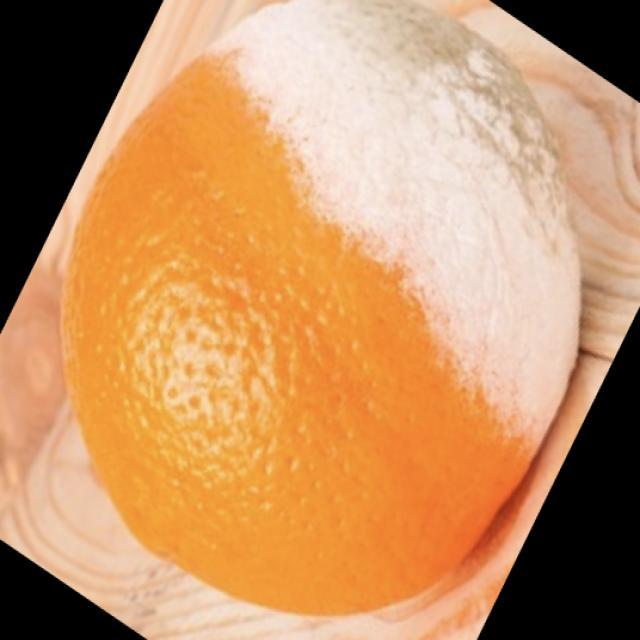sedikit-busuk: (64, 0, 578, 613)
